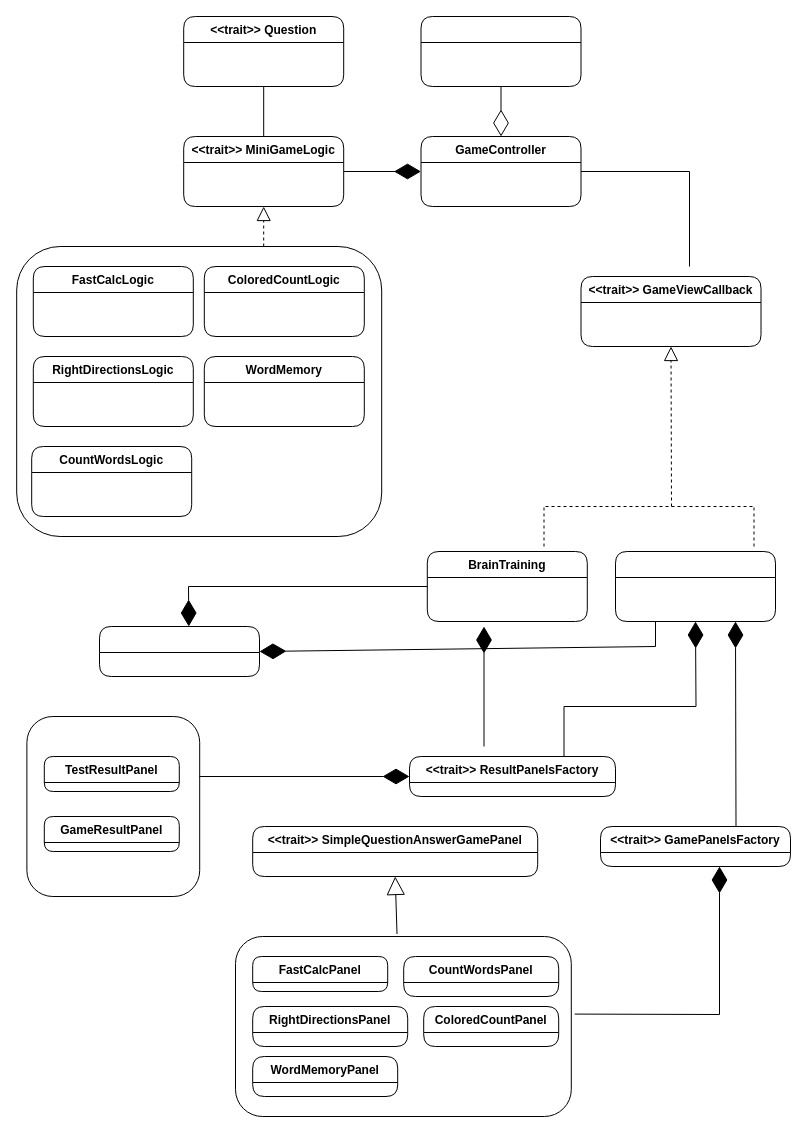
Some shapes in this 807 by 1133 pixel diagram are drawn without their labels. Here are the shapes that lost their labels. From the top down, the centre of each, then its label:
pixel 500 51: QuestionResult
pixel 695 586: AgeTest
pixel 179 651: MenuView
